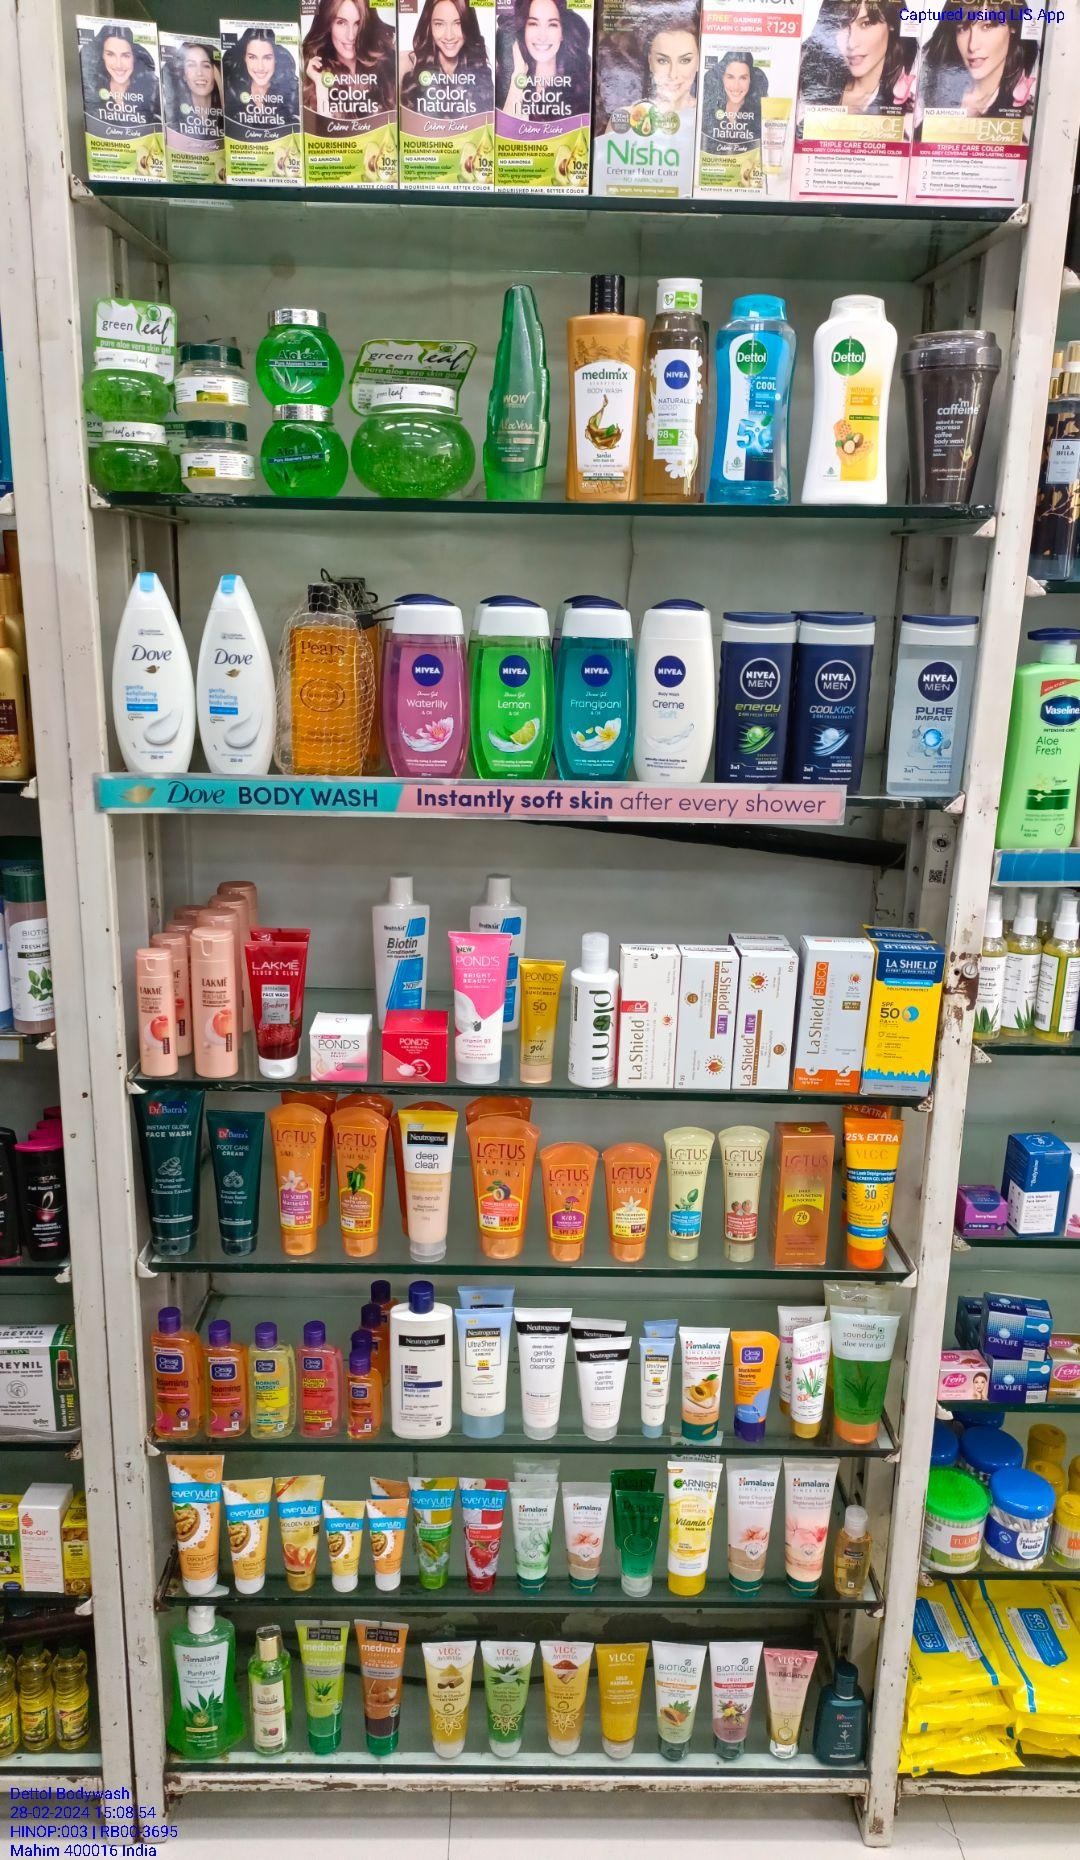Dettol_Bodywash_Cool: (714, 293, 792, 506)
Dettol_Nourish_Body_Wash_250ML: (815, 289, 894, 512)
Dove_Gentle_Exfoliating_Body_Wash_250ML: (112, 569, 195, 774), (199, 572, 278, 775)
Nivea_Creme_Soft_Body_Wash_250ML: (643, 602, 710, 787)
Nivea_Shower_Gel_Frangipani_and_Oil_250ML: (559, 594, 635, 783)
Nivea_Shower_Gel_Lemon_and_Oil_250ML: (473, 596, 552, 785)
Nivea_Shower_Gel_Waterlily_and_Oil_250ML: (387, 595, 469, 784)
